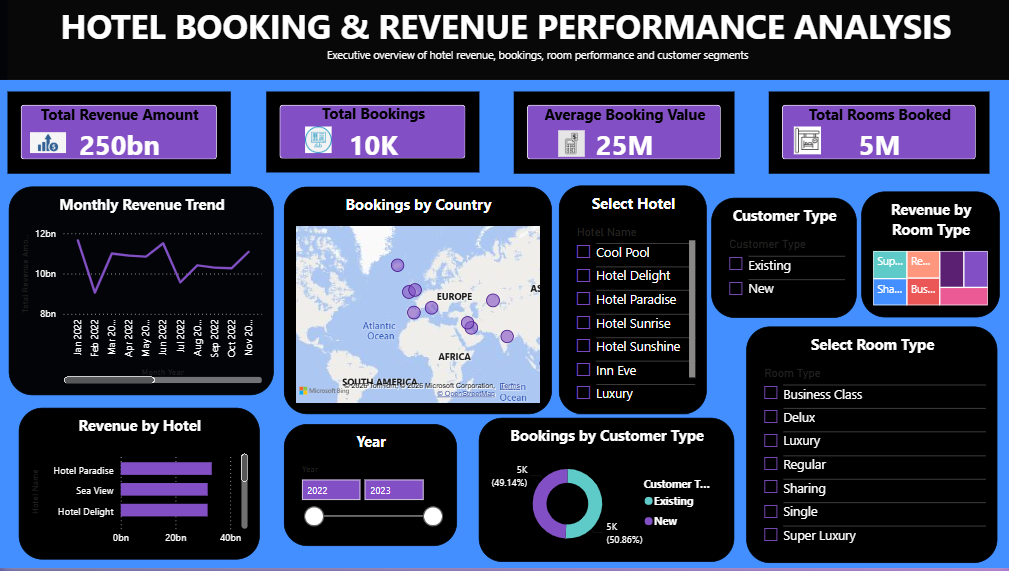

What the dashboard file says about the page in this screenshot:
{"tool":"powerbi","page":{"name":"Executive Dashboard","canvas":[1280,720],"ordinal":0},"visuals":[{"type":"textbox","box":[10.2,0,1269.9,102.3],"z":0},{"type":"textbox","box":[0,0,1280.1,102.3],"z":1000},{"type":"cardVisual","fields":{"Data":["0_Hotel_management Data.Average Booking Value"]},"box":[649.4,117,279.4,103.7],"z":2000},{"type":"cardVisual","fields":{"Data":["0_Hotel_management Data.Total Bookings"]},"box":[336.4,117,269.3,102],"z":3000},{"type":"lineChart","title":"Monthly Revenue Trend","fields":{"Category":["Calendar.Month Year"],"Y":["0_Hotel_management Data.Total Revenue Amount"]},"box":[10.9,236.5,335.4,264.2],"z":4000},{"type":"clusteredBarChart","title":"Revenue by Hotel","fields":{"Category":["0_Hotel_management Data.Hotel Name"],"Y":["0_Hotel_management Data.Total Revenue Amount"]},"box":[23.8,517.5,304.5,192.4],"z":5000},{"type":"map","title":"Bookings by Country","fields":{"Category":["0_Hotel_management Data.Country"],"Size":["0_Hotel_management Data.Total Bookings"]},"box":[358.3,236.5,339,288.3],"z":6000},{"type":"donutChart","title":"Bookings by Customer Type","fields":{"Y":["0_Hotel_management Data.Total Bookings"],"Category":["0_Hotel_management Data.Customer Type"]},"box":[605.6,530.3,322.9,182.3],"z":7000},{"type":"slicer","title":"Select Hotel","fields":{"Values":["0_Hotel_management Data.Hotel Name"]},"box":[706,235,187.4,289.4],"z":8000},{"type":"slicer","title":"Select Room Type","fields":{"Values":["0_Hotel_management Data.Room Type"]},"box":[943.4,413.8,317.9,299.4],"z":9000},{"type":"treemap","title":"Revenue by Room Type","fields":{"Group":["0_Hotel_management Data.Room Type"],"Values":["0_Hotel_management Data.Total Revenue Amount"]},"box":[1089.4,243.7,174.9,159.3],"z":10000},{"type":"slicer","title":"Customer Type","fields":{"Values":["0_Hotel_management Data.Customer Type"]},"box":[900,250.9,184,152.2],"z":11000},{"type":"cardVisual","fields":{"Data":["0_Hotel_management Data.Total Revenue Amount"]},"box":[10,117,282.7,103.7],"z":12000},{"type":"slicer","title":"Year","fields":{"Values":["Calendar.Year"]},"box":[358.3,536.9,219.6,154.4],"z":13000},{"type":"image","box":[377.6,161.7,49.5,33.8],"z":14000},{"type":"image","box":[697.3,165.3,50.7,33.8],"z":15000},{"type":"image","box":[991.7,162.9,55.5,33.8],"z":16000},{"type":"image","box":[38.6,96.5,45.8,170.1],"z":17000},{"type":"cardVisual","fields":{"Data":["0_Hotel_management Data.Total Rooms Booked"]},"box":[972.4,117,279.4,103.7],"z":18000},{"type":"image","box":[929,161.7,183.4,35],"z":19000}]}

Visuals, with their boxes in screenshot pixels (x1, y1, x2, y2), scaled from the page's 1280x720 canvas onto the 1009x571 screenshot:
textbox: pyautogui.locateOnScreen(8, 0, 1008, 81)
textbox: pyautogui.locateOnScreen(0, 0, 1008, 81)
cardVisual - 0_Hotel_management Data.Average Booking Value: pyautogui.locateOnScreen(512, 93, 732, 175)
cardVisual - 0_Hotel_management Data.Total Bookings: pyautogui.locateOnScreen(265, 93, 477, 174)
"Monthly Revenue Trend" lineChart: pyautogui.locateOnScreen(9, 188, 273, 397)
"Revenue by Hotel" clusteredBarChart: pyautogui.locateOnScreen(19, 410, 259, 563)
"Bookings by Country" map: pyautogui.locateOnScreen(282, 188, 550, 416)
"Bookings by Customer Type" donutChart: pyautogui.locateOnScreen(477, 421, 732, 565)
"Select Hotel" slicer: pyautogui.locateOnScreen(557, 186, 704, 416)
"Select Room Type" slicer: pyautogui.locateOnScreen(744, 328, 994, 566)
"Revenue by Room Type" treemap: pyautogui.locateOnScreen(859, 193, 997, 320)
"Customer Type" slicer: pyautogui.locateOnScreen(709, 199, 854, 320)
cardVisual - 0_Hotel_management Data.Total Revenue Amount: pyautogui.locateOnScreen(8, 93, 231, 175)
"Year" slicer: pyautogui.locateOnScreen(282, 426, 456, 548)
image: pyautogui.locateOnScreen(298, 128, 337, 155)
image: pyautogui.locateOnScreen(550, 131, 590, 158)
image: pyautogui.locateOnScreen(782, 129, 825, 156)
image: pyautogui.locateOnScreen(30, 77, 67, 211)
cardVisual - 0_Hotel_management Data.Total Rooms Booked: pyautogui.locateOnScreen(767, 93, 987, 175)
image: pyautogui.locateOnScreen(732, 128, 877, 156)
